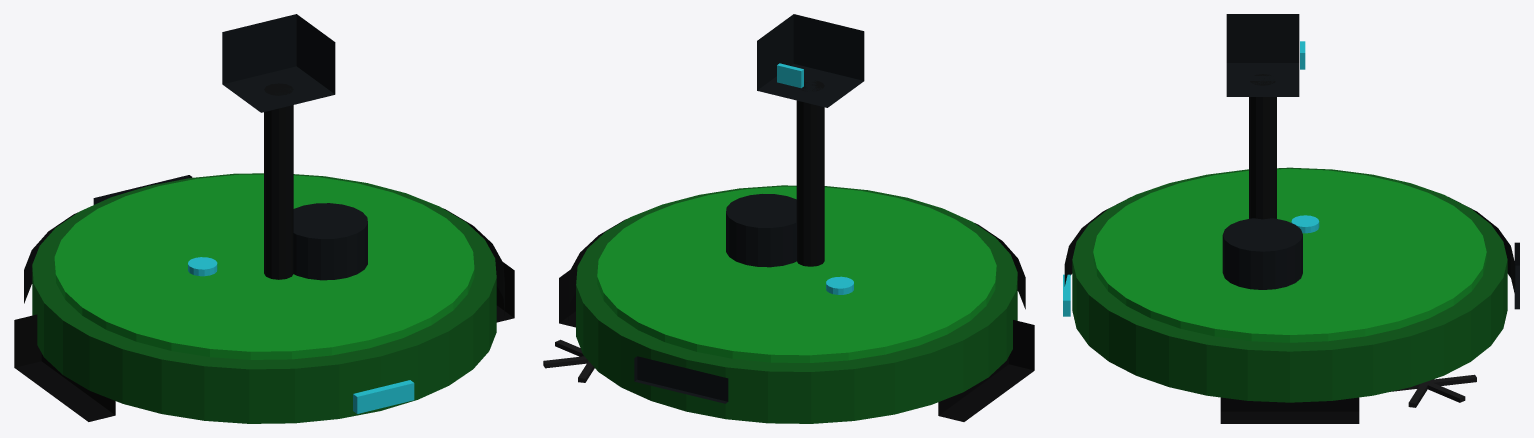
The model's file is robot_green_h040.obj.
3 renders of one model, left to right at view 1: azimuth 30°, elevation 25°; view 2: azimuth 150°, elevation 25°; view 3: azimuth 270°, elevation 25°, orthographic. The views are drawn at different scales.
Visible parts, largest first — view 1: low_poly_robot_vacuum; view 2: low_poly_robot_vacuum; view 3: low_poly_robot_vacuum.
Part boxes in pixels (bbox=[...]): low_poly_robot_vacuum: bbox=[14, 14, 514, 423]; low_poly_robot_vacuum: bbox=[543, 14, 1034, 423]; low_poly_robot_vacuum: bbox=[1063, 14, 1519, 423].
Bounding box in the file's own units: 0.596 × 0.423 × 0.592.
